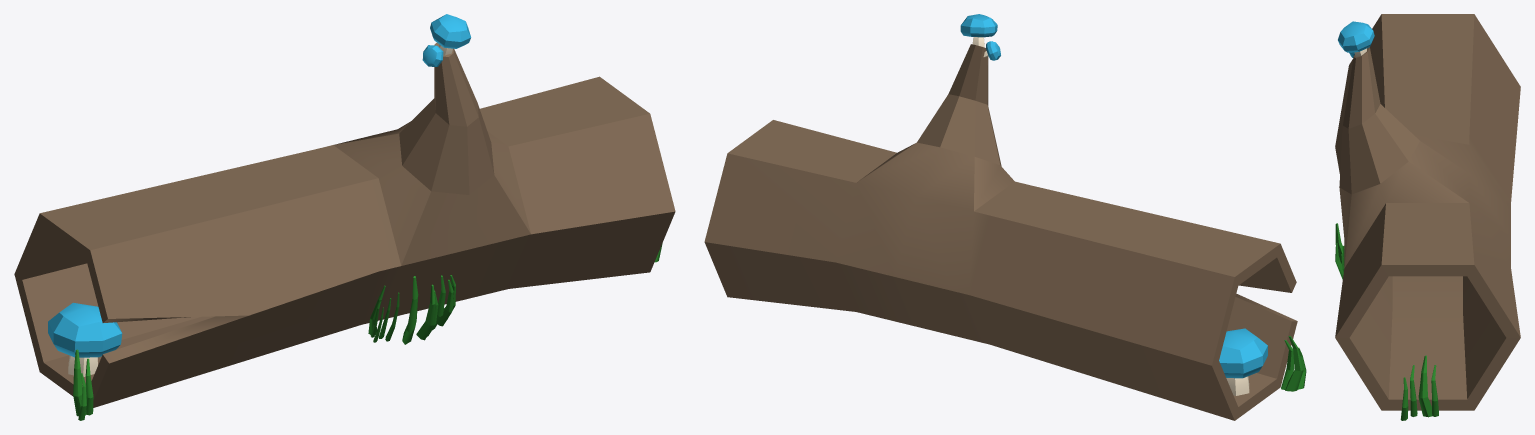
Rendered from Tronco_decorado_1.fbx.
The picture shows the model from 3 angles, left to right: view 1: azimuth 30°, elevation 25°; view 2: azimuth 150°, elevation 25°; view 3: azimuth 270°, elevation 25°; orthographic projection. The views are drawn at different scales.
Visible parts, largest first — view 1: tronco_1, cabeza_hongo, cabeza_hongo2; view 2: tronco_1, cabeza_hongo, cabeza_hongo2; view 3: tronco_1, cabeza_hongo2, Pasto_2PastosPasto5pCube26, Pasto_2PastosPasto5pCube25, Pasto_2PastosPasto5pCube21, Pasto_2PastospCube22Pasto6.
Boxes of the visible parts, x1,y1,x2,y2 form: tronco_1: [14, 43, 675, 407]; cabeza_hongo: [48, 302, 122, 357]; cabeza_hongo2: [430, 14, 471, 48]; tronco_1: [704, 44, 1297, 420]; cabeza_hongo: [1219, 328, 1267, 378]; cabeza_hongo2: [960, 14, 997, 37]; tronco_1: [1335, 14, 1520, 410]; cabeza_hongo2: [1338, 21, 1374, 52]; Pasto_2PastosPasto5pCube26: [1418, 355, 1432, 417]; Pasto_2PastosPasto5pCube25: [1410, 365, 1417, 416]; Pasto_2PastosPasto5pCube21: [1431, 365, 1438, 416]; Pasto_2PastospCube22Pasto6: [1400, 377, 1408, 420].
Size of the model in its own units: 5.04 by 2.54 by 1.46.
